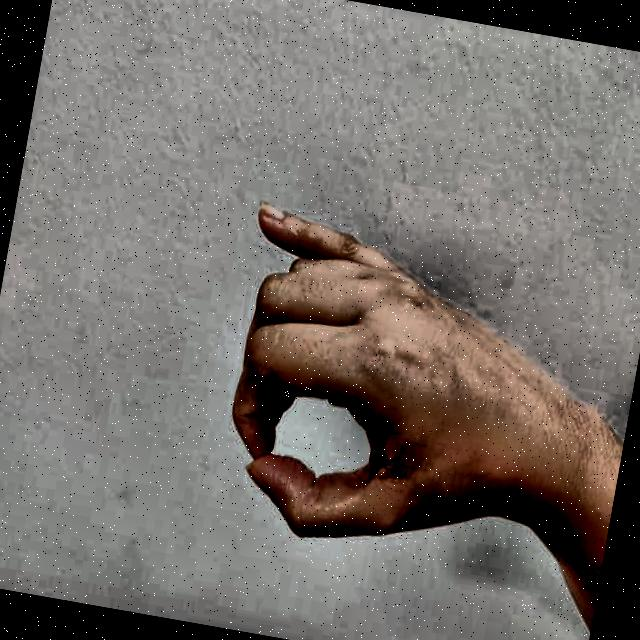Ou: (175, 163, 584, 598)
